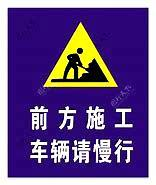sign: (7, 5, 149, 178)
